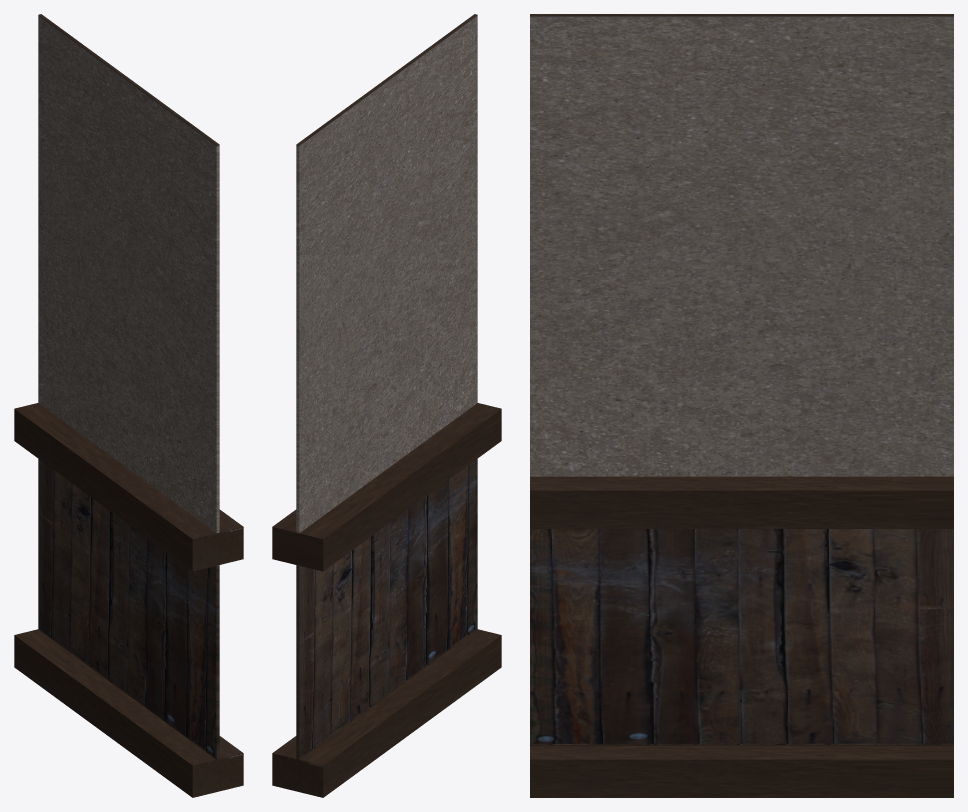
Rendered from OutdoorArchitecture_HalfWall_NoEdges_BShortt.fbx.
The picture shows the model from 3 angles, left to right: view 1: azimuth 30°, elevation 25°; view 2: azimuth 150°, elevation 25°; view 3: azimuth 270°, elevation 25°; orthographic projection. The views are drawn at different scales.
Visible parts, largest first — view 1: OutdoorArchitecture_HalfWall_NoEdges_BShortt; view 2: OutdoorArchitecture_HalfWall_NoEdges_BShortt; view 3: OutdoorArchitecture_HalfWall_NoEdges_BShortt.
Boxes of the visible parts, x1,y1,x2,y2 form: OutdoorArchitecture_HalfWall_NoEdges_BShortt: (14,14,243,797); OutdoorArchitecture_HalfWall_NoEdges_BShortt: (272,14,501,797); OutdoorArchitecture_HalfWall_NoEdges_BShortt: (530,14,953,797).
Bounding box in the file's own units: 24.72 × 300 × 150.
